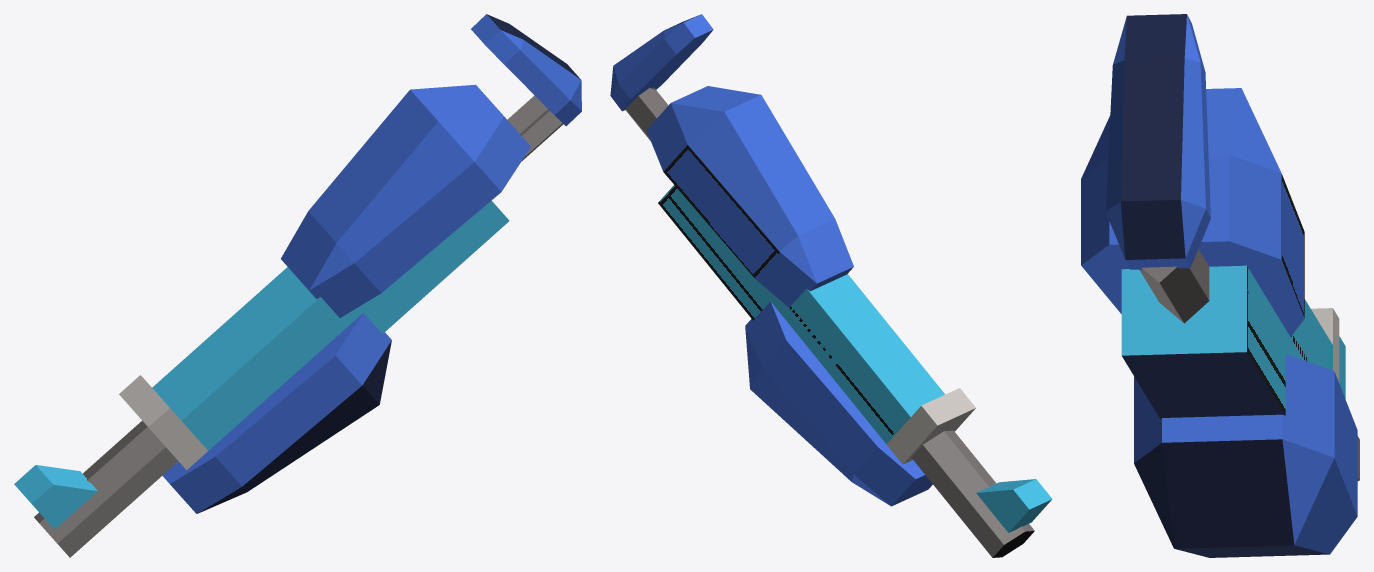
Rendered from PlasmaRifleRightSide.gltf.
3 renders of one model, left to right at view 1: azimuth 30°, elevation 25°; view 2: azimuth 150°, elevation 25°; view 3: azimuth 270°, elevation 25°, orthographic. The views are drawn at different scales.
Visible parts, largest first — view 1: Pad, Body, Grip, barrel, Stock, sight, thing, stock; view 2: Pad, Body, Grip, barrel, Stock, thing, sight, stock; view 3: Grip, Stock, Body, Pad, stock, thing, sight.
Part boxes in pixels (left/top/right/bottom): Pad: left=281, top=84, right=530, bottom=317; Body: left=152, top=200, right=509, bottom=450; Grip: left=162, top=313, right=391, bottom=513; barrel: left=34, top=420, right=178, bottom=557; Stock: left=471, top=14, right=581, bottom=126; sight: left=14, top=465, right=97, bottom=529; thing: left=119, top=375, right=207, bottom=469; stock: left=507, top=95, right=563, bottom=161; Pad: left=646, top=86, right=853, bottom=307; Body: left=658, top=185, right=944, bottom=444; Grip: left=745, top=301, right=932, bottom=506; barrel: left=911, top=430, right=1034, bottom=557; Stock: left=610, top=14, right=713, bottom=111; thing: left=886, top=388, right=975, bottom=464; sight: left=976, top=479, right=1052, bottom=532; stock: left=625, top=86, right=668, bottom=140; Grip: left=1134, top=354, right=1357, bottom=557; Stock: left=1105, top=14, right=1210, bottom=269; Body: left=1121, top=265, right=1332, bottom=418; Pad: left=1081, top=88, right=1304, bottom=336; stock: left=1139, top=249, right=1209, bottom=323; thing: left=1311, top=308, right=1339, bottom=382; sight: left=1339, top=336, right=1345, bottom=398.
Bounding box in the file's own units: 1.27 × 1.11 × 0.3446.
1 material, 1 textured.
